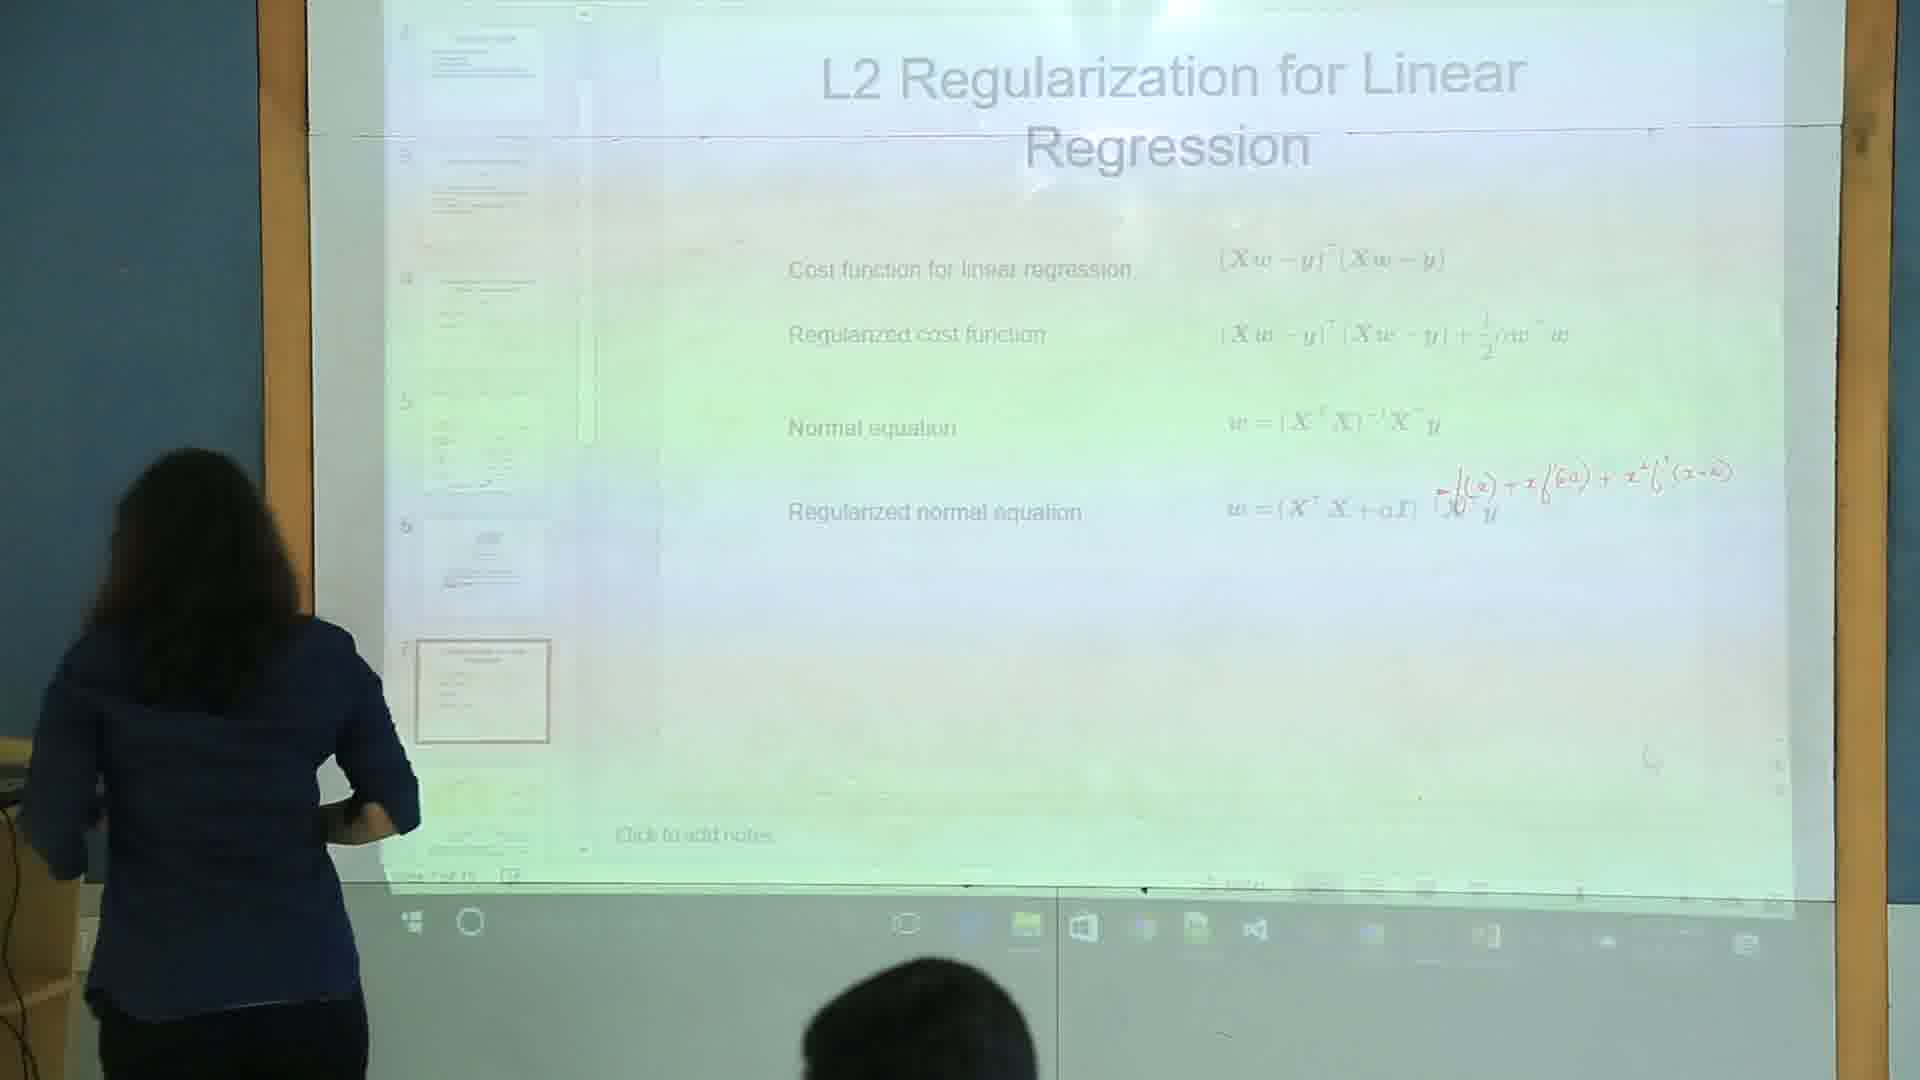eq: (1218, 307, 1575, 368), (1208, 233, 1452, 284), (1218, 400, 1466, 446), (1217, 481, 1425, 527)
